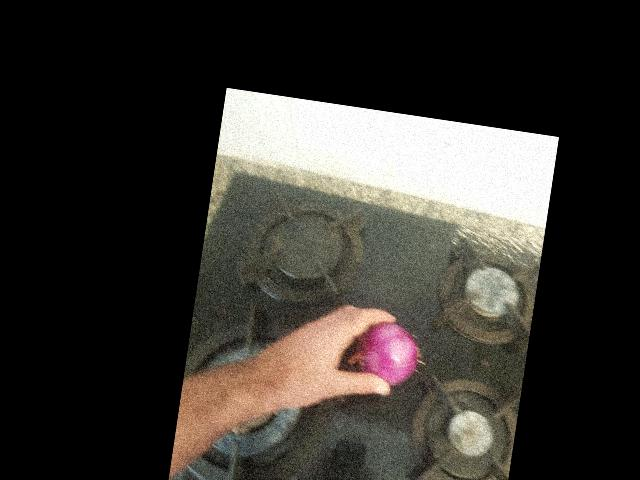onion: (359, 322, 414, 387)
